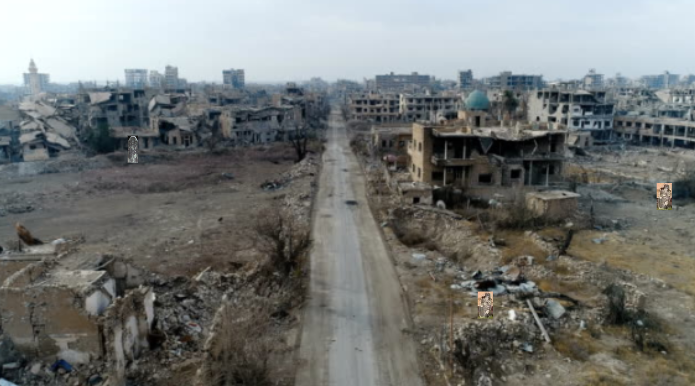HVT1: (127, 135, 138, 163), (660, 184, 671, 211), (481, 292, 492, 318)
